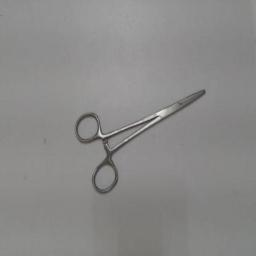Mayo Needle Holder: (70, 80, 218, 198)
